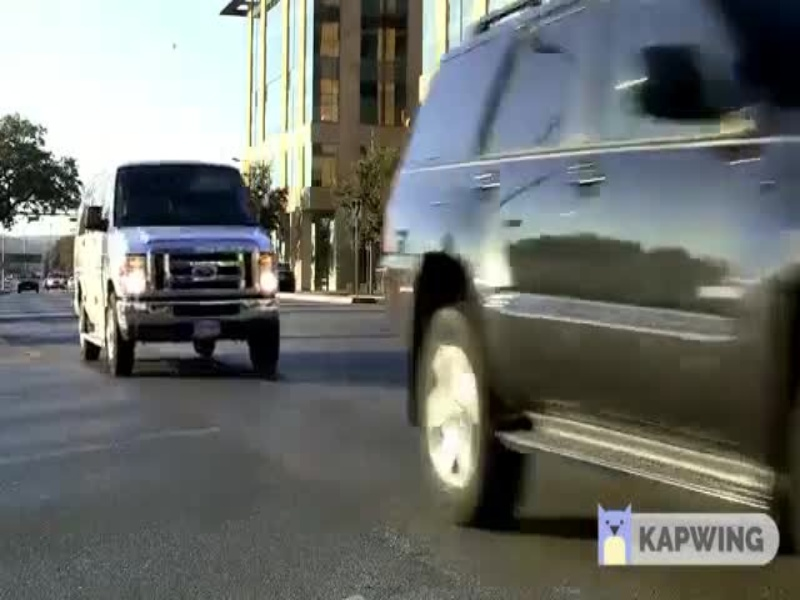suv: (408, 1, 796, 544)
van: (43, 168, 303, 384)
